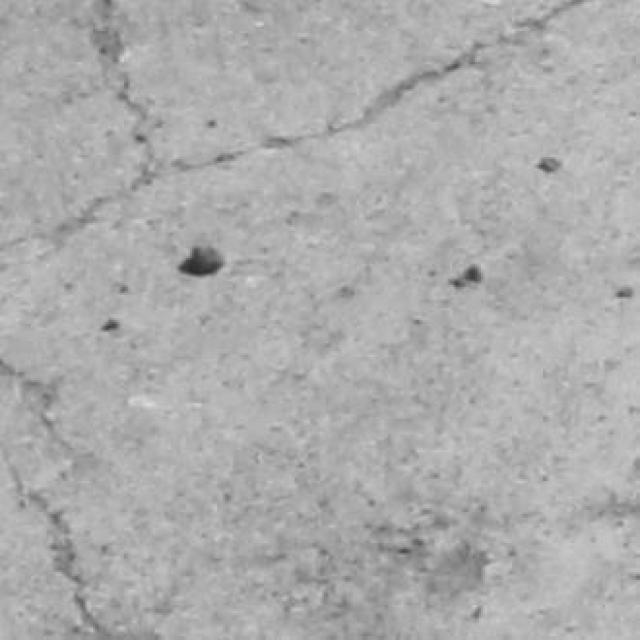crack: (37, 0, 593, 257), (169, 0, 593, 174), (2, 450, 118, 639), (92, 0, 159, 193), (0, 359, 77, 457)
